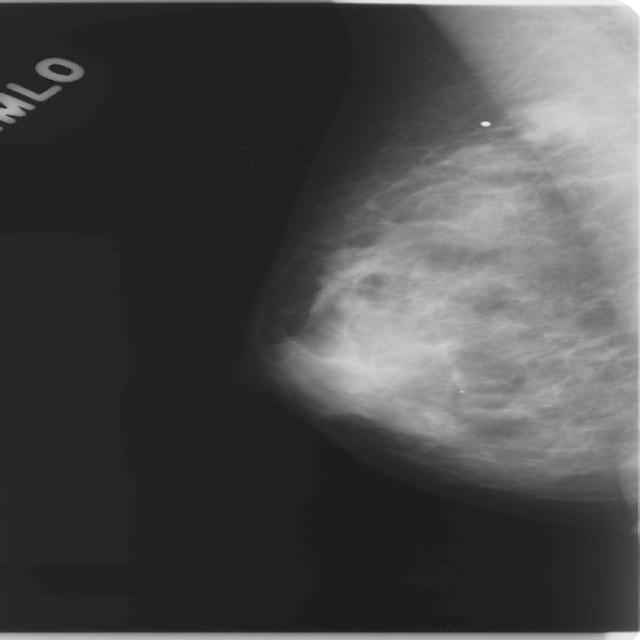tumour: (513, 100, 586, 140)
